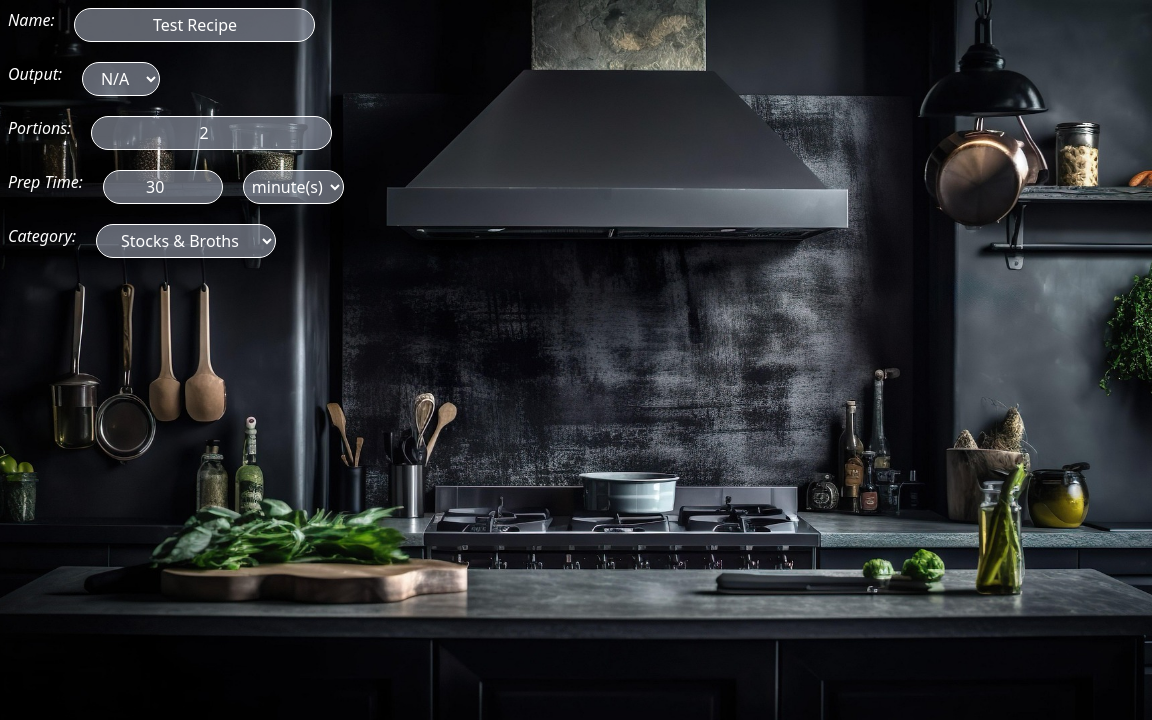
Scenario: Testing component: RecipeInfoSection › changes output and updates outputType select
Select "GN" in the dropdown next to "Output:" at (121, 79), box [82,62,160,96]
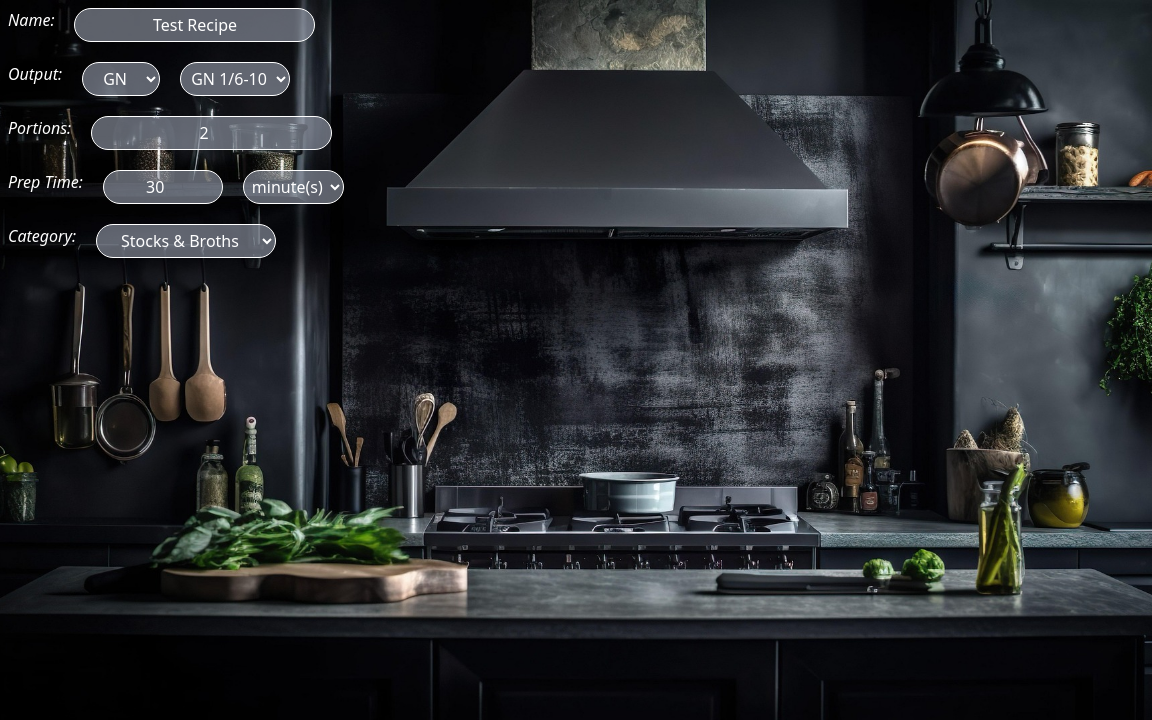
expect the 2nd dropdown shows "GN 1/6-10": met, box [180,62,290,96]
